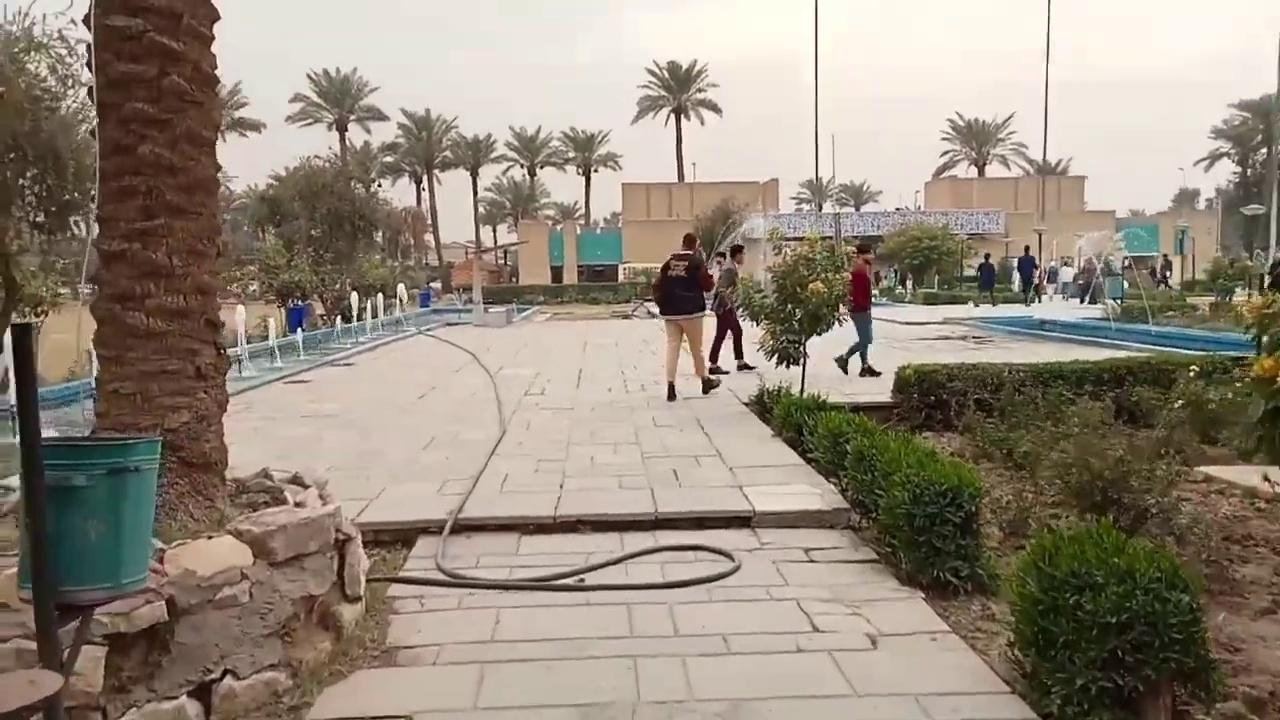fountain: (951, 228, 1273, 359), (220, 280, 468, 406), (944, 306, 1270, 358)
person: (651, 232, 721, 401), (833, 242, 882, 377), (707, 243, 757, 373), (1016, 244, 1038, 306), (974, 251, 997, 306), (1157, 253, 1173, 290)
tree: (82, 0, 232, 542), (0, 2, 99, 715), (1002, 513, 1224, 718), (0, 2, 98, 337), (237, 151, 394, 323), (283, 64, 389, 269), (726, 232, 851, 395), (1192, 90, 1279, 265), (378, 106, 459, 291), (630, 57, 723, 182), (284, 64, 389, 167), (214, 77, 266, 258), (442, 130, 502, 254), (550, 125, 623, 226), (931, 109, 1029, 178), (375, 140, 429, 265), (498, 123, 561, 221), (876, 220, 959, 290), (479, 173, 550, 233), (692, 196, 750, 267), (1018, 154, 1072, 223), (544, 200, 584, 283), (216, 78, 266, 143), (231, 182, 275, 243), (476, 195, 510, 265), (343, 137, 383, 192), (789, 175, 839, 212), (834, 178, 882, 211), (953, 233, 976, 289), (1167, 184, 1200, 215), (546, 199, 584, 225), (1027, 156, 1072, 175)
